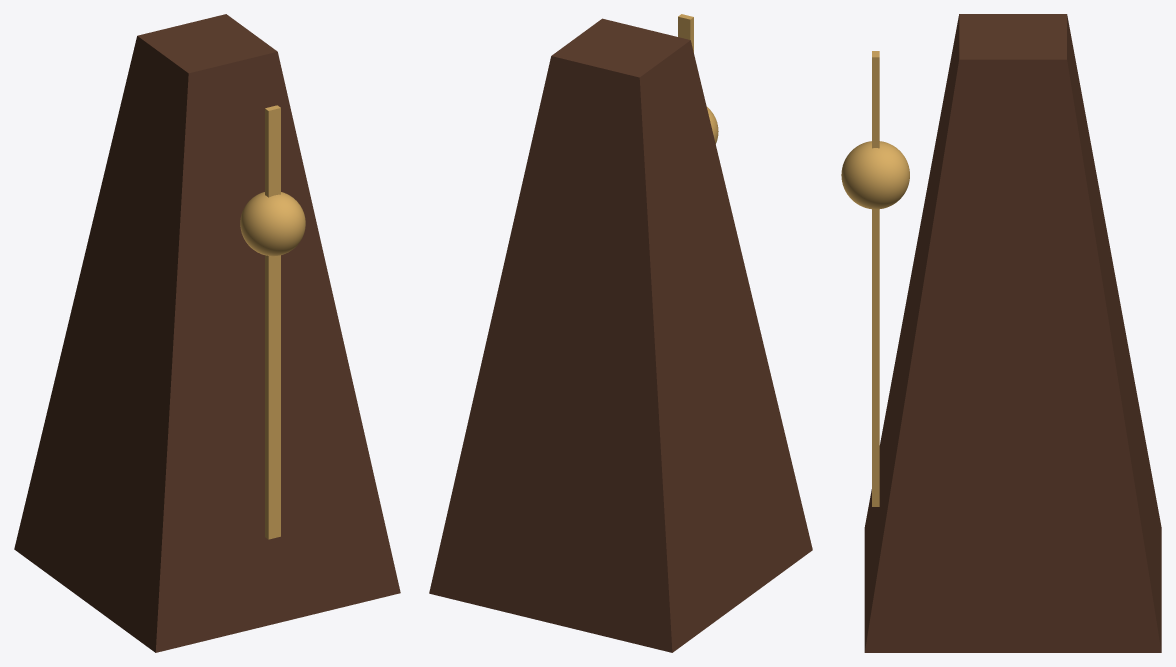
File: metronome.glb
3 views of the same model, side by side, from view 1: azimuth 30°, elevation 25°; view 2: azimuth 150°, elevation 25°; view 3: azimuth 270°, elevation 25° (orthographic). The views are drawn at different scales.
Visible parts, largest first — view 1: body, rod, weight; view 2: body; view 3: body, weight, rod.
Part boxes in pixels (box(x1,y1,x2,y2)): body: box(14, 14, 400, 652); rod: box(265, 105, 280, 539); weight: box(240, 192, 305, 256); body: box(429, 18, 812, 652); body: box(864, 14, 1161, 652); weight: box(841, 141, 909, 209); rod: box(872, 51, 879, 506).
Bounding box in the file's own units: 0.7778 × 1.6 × 0.8389.
